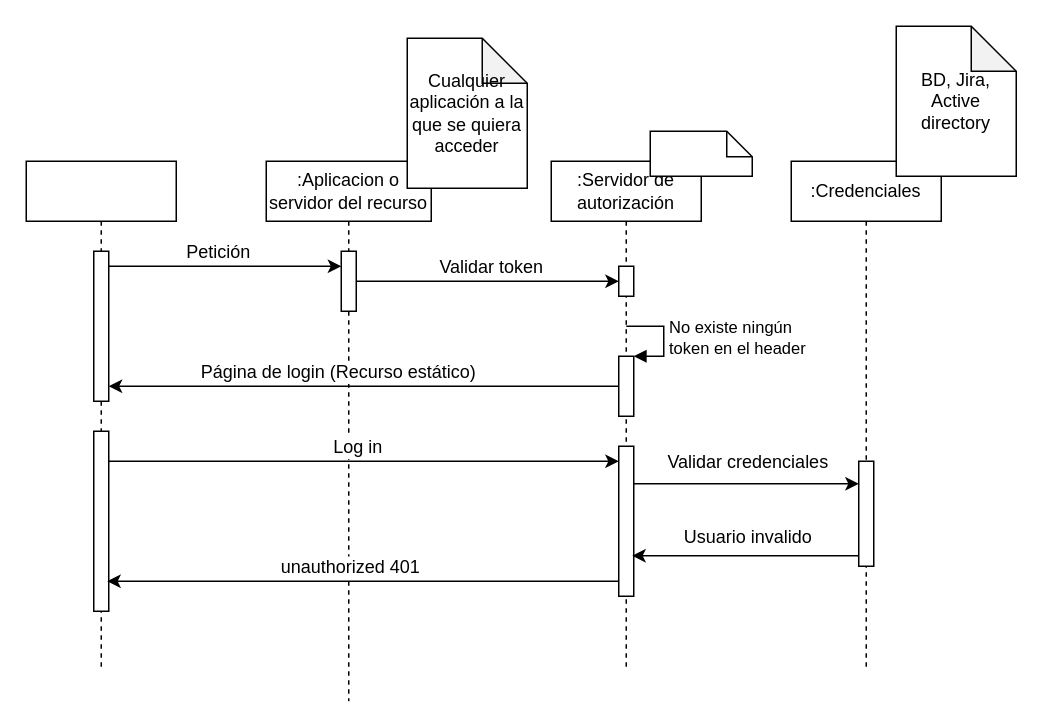
The diagram is 1043 pixels wide and 728 high, and some of its shapes have lost their labels. Each missing label, with the centre of its shape:
:cliente: the point at 100,415
Oauth2: the point at 700,153
